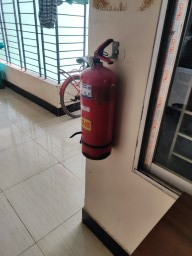fire_extinguisher: (29, 96, 120, 177)
